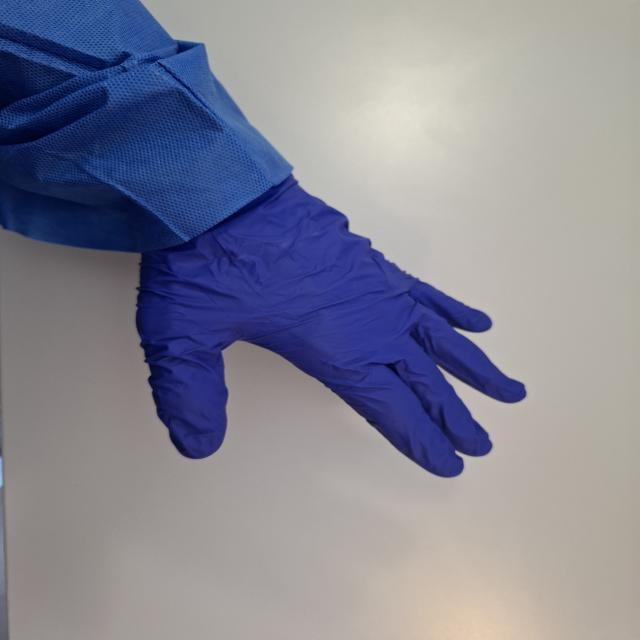glove_on: (122, 171, 531, 480)
